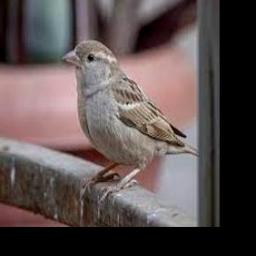Sparrow: (61, 39, 199, 201)
